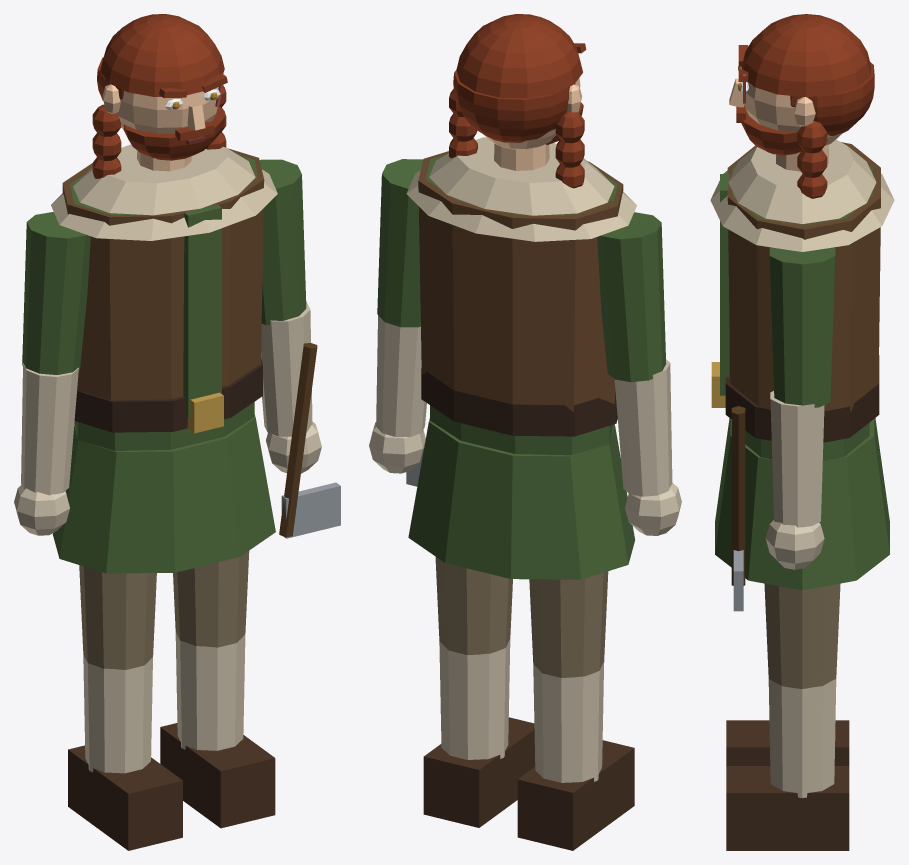
File: eirik.obj
The picture shows the model from 3 angles, left to right: view 1: azimuth 30°, elevation 25°; view 2: azimuth 150°, elevation 25°; view 3: azimuth 270°, elevation 25°; orthographic projection.
Parts seen in each view (by area): view 1: TunicSkirt, Vest, FurCollar, UpperArm_R, Boot_R, Boot_L, Hair, LegWrap_L, LegWrap_R, Leg_R, TunicFront, UpperArm_L (+15 smaller); view 2: Vest, TunicSkirt, FurCollar, UpperArm_R, Hair, Boot_R, LegWrap_R, LegWrap_L, Boot_L, Leg_R, UpperArm_L, Forearm_R (+10 smaller); view 3: Vest, TunicSkirt, FurCollar, UpperArm_L, Boot_L, Hair, Leg_L, LegWrap_L, Forearm_L, Belt, Boot_R, AxeHandle (+13 smaller).
Part boxes in pixels (x1,y1,x2,y2): TunicSkirt: (52, 414, 275, 573); Vest: (62, 148, 264, 400); FurCollar: (51, 144, 277, 240); UpperArm_R: (22, 212, 90, 374); Boot_R: (68, 745, 182, 850); Boot_L: (160, 723, 275, 828); Hair: (100, 14, 224, 96); LegWrap_L: (175, 632, 245, 750); LegWrap_R: (83, 654, 152, 773); Leg_R: (79, 565, 156, 669); TunicFront: (183, 205, 221, 417); UpperArm_L: (259, 159, 306, 324); Vest: (418, 151, 623, 412); TunicSkirt: (408, 418, 634, 579); FurCollar: (406, 137, 636, 241); UpperArm_R: (597, 212, 666, 381); Hair: (456, 14, 582, 98); Boot_R: (517, 740, 634, 850); LegWrap_R: (533, 662, 604, 782); LegWrap_L: (439, 639, 510, 759); Boot_L: (423, 717, 535, 827); Leg_R: (529, 571, 608, 677); UpperArm_L: (377, 159, 423, 327); Forearm_R: (614, 359, 672, 496); Vest: (727, 142, 880, 412); TunicSkirt: (715, 418, 889, 590); FurCollar: (710, 139, 894, 251); UpperArm_L: (769, 247, 835, 407); Boot_L: (726, 766, 849, 850); Hair: (742, 14, 870, 97); Leg_L: (764, 583, 840, 688); LegWrap_L: (768, 679, 836, 797); Forearm_L: (770, 391, 824, 527); Belt: (725, 352, 879, 442); Boot_R: (726, 720, 849, 765); AxeHandle: (731, 406, 745, 585).
Size of the model in its own units: 0.72 by 1.78 by 0.375.
